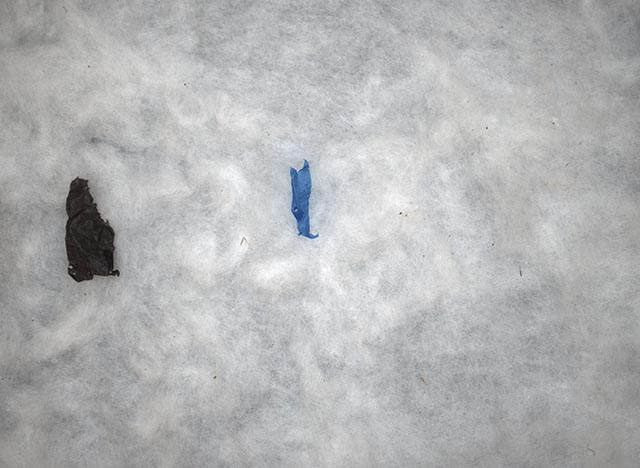plastic film: (64, 178, 121, 284), (288, 156, 321, 240)
